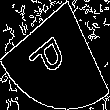P_NE: (32, 26, 78, 84)
